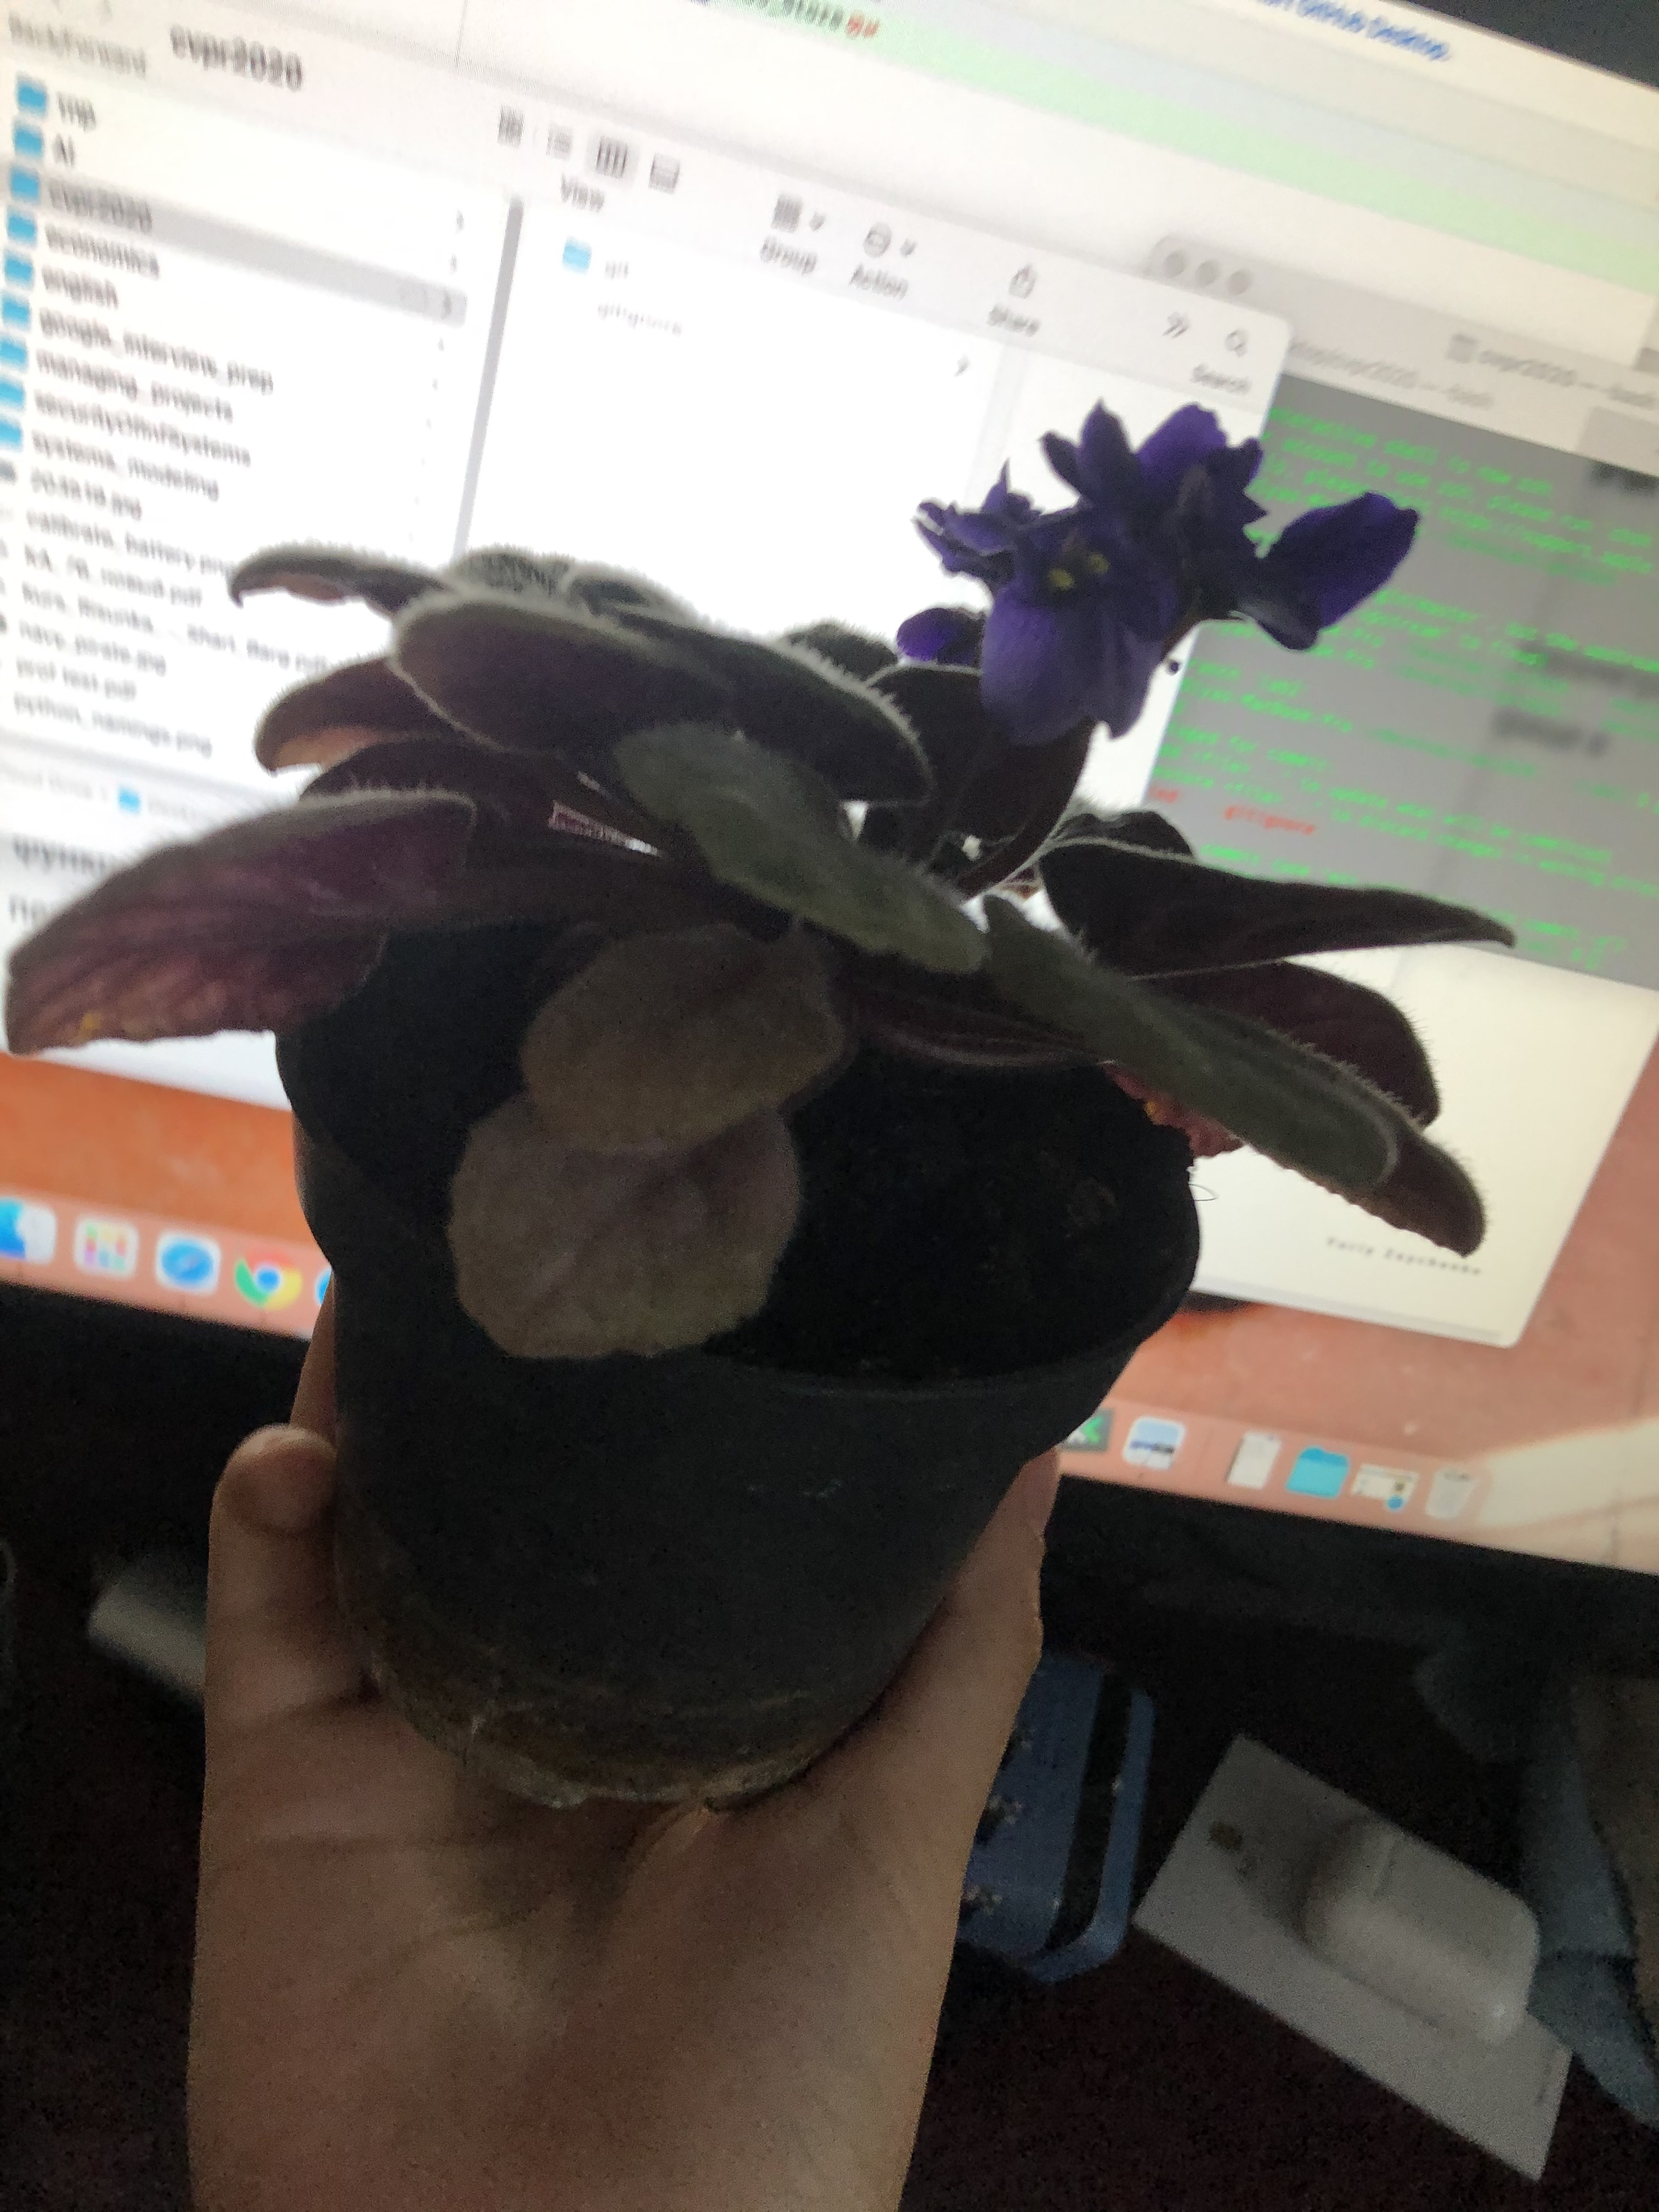ignore: (179, 366, 1471, 1317)
